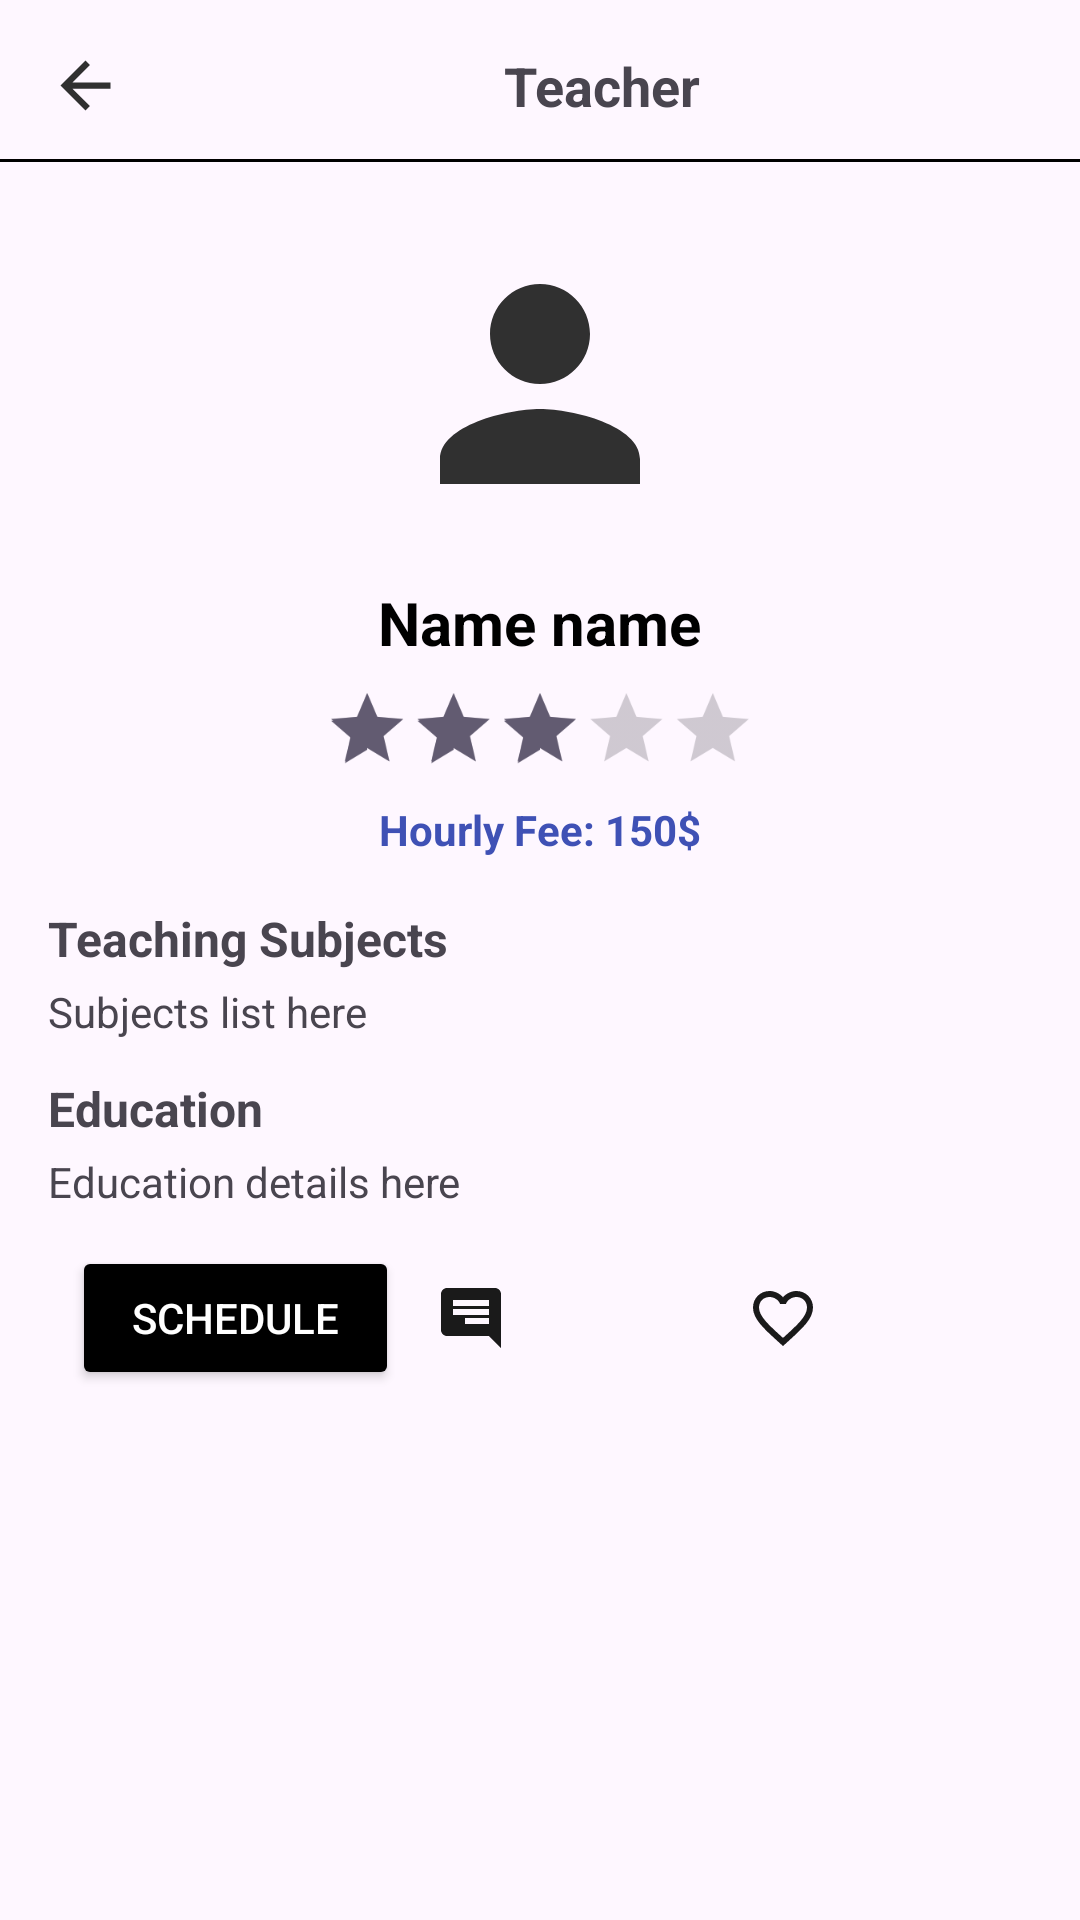

Named icons in this screenshot (1080*1920) and their centers, point (x, y):
arrow back: point (85, 85)
chat: point (471, 1318)
favorite: point (783, 1318)
profile: point (540, 384)
